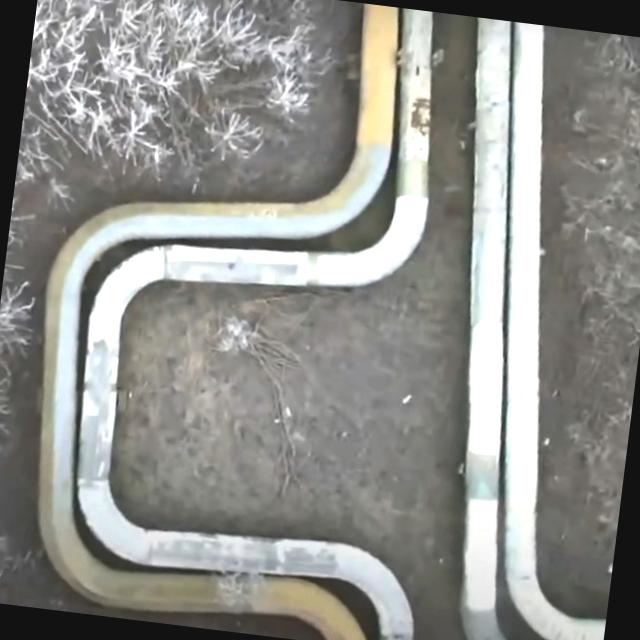gas: (39, 5, 397, 640), (75, 8, 432, 640), (507, 22, 605, 640), (462, 17, 509, 640)
